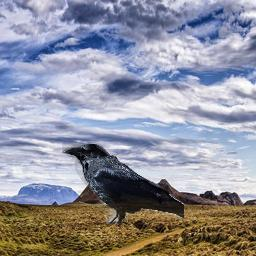Crow: (62, 143, 184, 224)
